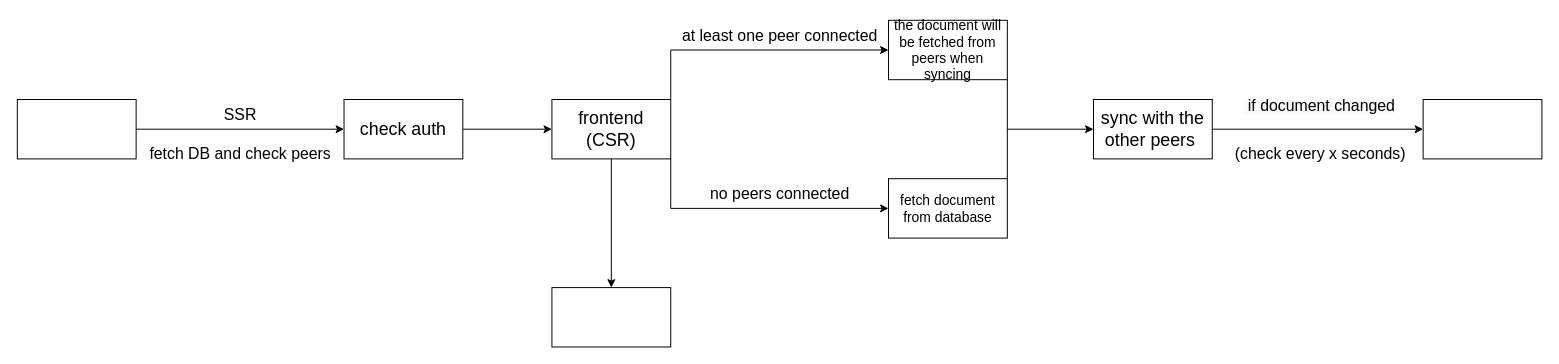
This 1559x364 diagram has some shape labels left out. The box of each missing label's shape, as (x1, y1, x2, y2) in pixels:
/[id]: (16, 99, 136, 159)
analytics: (551, 287, 671, 347)
update DB: (1422, 99, 1542, 159)
